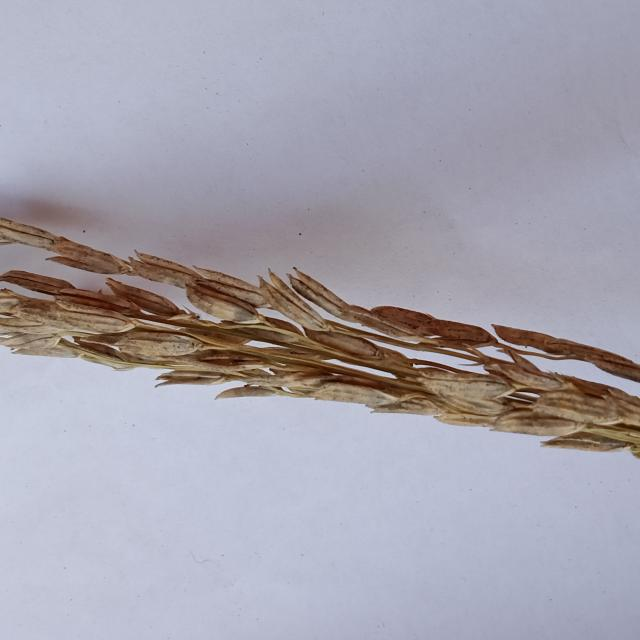Neck_Blast: (0, 223, 640, 462)
